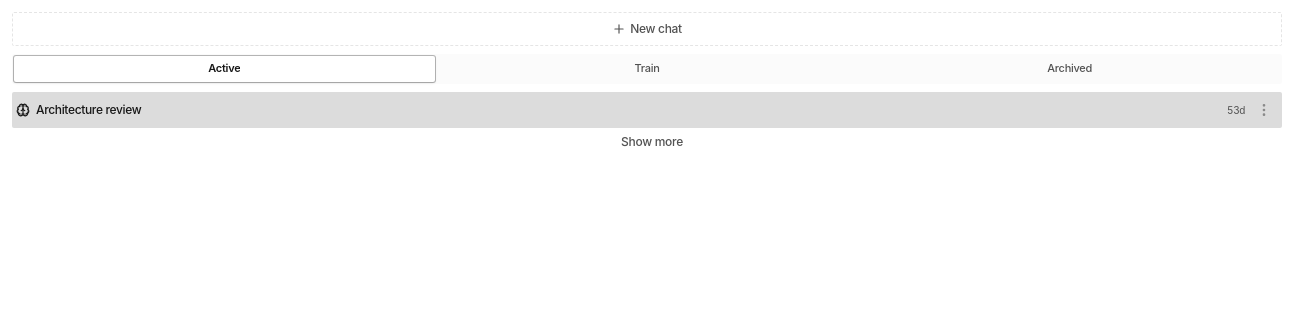
SessionNavigationPanel › renders session action menus through Radix dropdown primitives
Click the button named "Options for Architecture review": {"x": 1264, "y": 110} [1250, 96, 1278, 124]
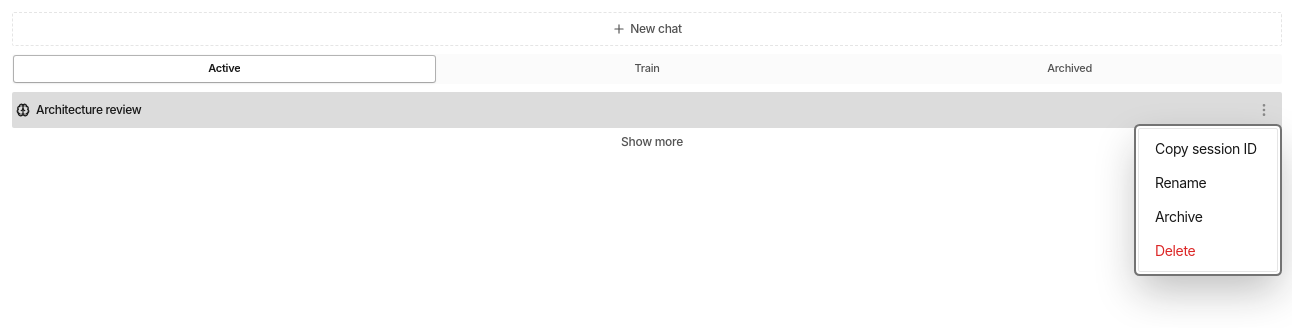
Expected: the menu item "Copy session ID" is shown
Expected: the menu item "Rename" is shown, [1155, 174, 1206, 191]
Expected: the menu item "Archive" is shown, [1155, 208, 1203, 225]
Click the menu item "Copy session ID": {"x": 1206, "y": 148} [1155, 140, 1257, 157]
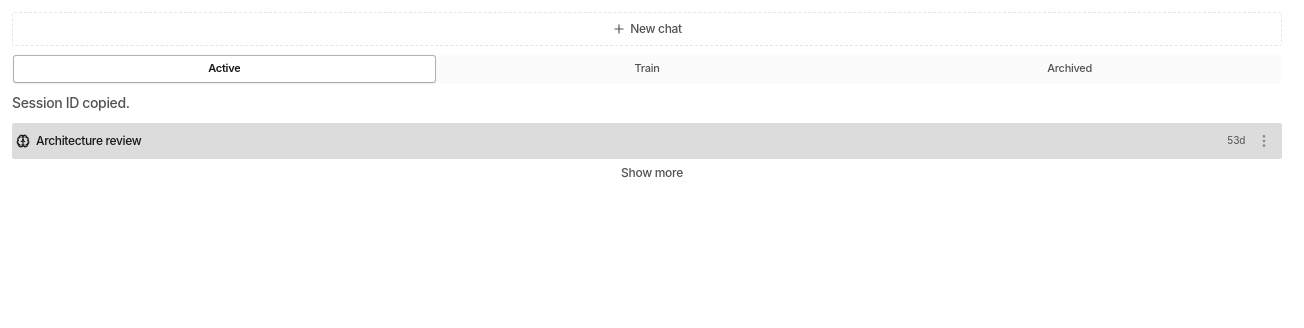
Expected: the text "Session ID copied." is shown, [12, 94, 130, 111]
